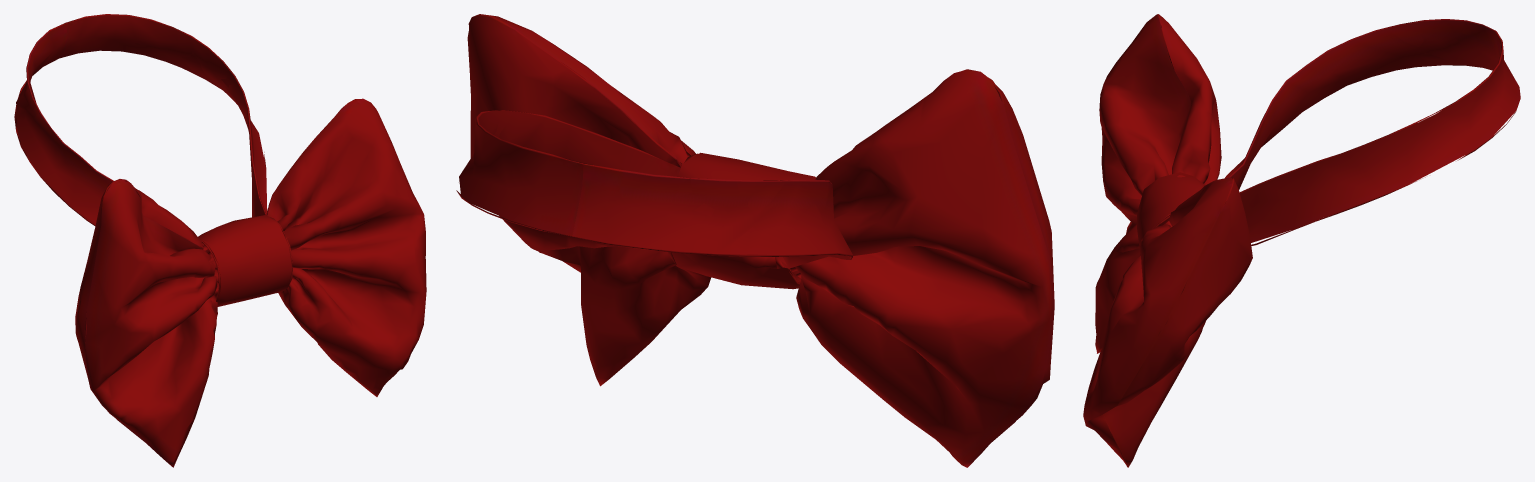
The model's file is bow.gltf.
3 views of the same model, side by side, from view 1: azimuth 30°, elevation 25°; view 2: azimuth 150°, elevation 25°; view 3: azimuth 270°, elevation 25° (orthographic). The views are drawn at different scales.
Parts seen in each view (by area): view 1: Object_3, Object_2; view 2: Object_3, Object_2; view 3: Object_3, Object_2.
Part boxes in pixels (x1=…): Object_3: x1=14, y1=14, x2=426, y2=467; Object_2: x1=16, y1=27, x2=398, y2=370; Object_3: x1=456, y1=14, x2=1054, y2=467; Object_2: x1=459, y1=112, x2=852, y2=289; Object_3: x1=1083, y1=14, x2=1516, y2=467; Object_2: x1=1137, y1=21, x2=1520, y2=254.
Bounding box in the file's own units: 179 × 150 × 168.
Materials: 1 (1 with a texture image).
